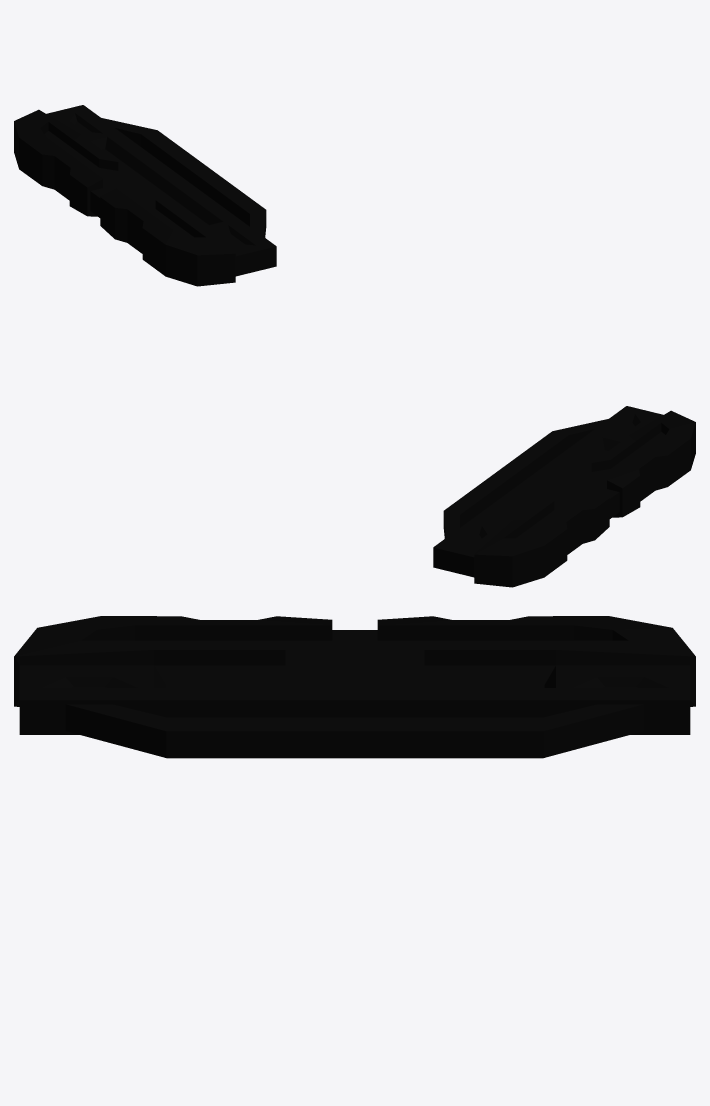
File: cyber_SM_Prop_Handheld_03.gltf
3 renders of one model, top to bottom at view 1: azimuth 30°, elevation 25°; view 2: azimuth 150°, elevation 25°; view 3: azimuth 270°, elevation 25°, orthographic. The views are drawn at different scales.
Parts seen in each view (by area): view 1: SM_Prop_Handheld_03; view 2: SM_Prop_Handheld_03; view 3: SM_Prop_Handheld_03.
Boxes of the visible parts, bbox=[...] form: SM_Prop_Handheld_03: bbox=[14, 105, 276, 286]; SM_Prop_Handheld_03: bbox=[433, 406, 695, 587]; SM_Prop_Handheld_03: bbox=[14, 616, 695, 758].
Bounding box in the file's own units: 0.5707 × 0.0397 × 0.375.
2 materials, 2 textured.
